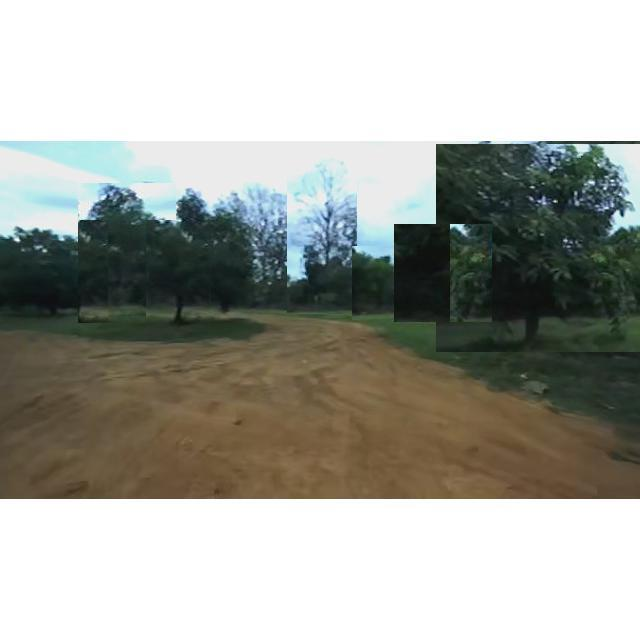direk: (436, 144, 640, 352), (210, 175, 308, 317), (78, 183, 176, 323), (287, 148, 357, 314), (394, 224, 492, 322), (0, 221, 91, 325), (146, 220, 210, 326), (206, 210, 254, 322), (352, 246, 408, 320)
